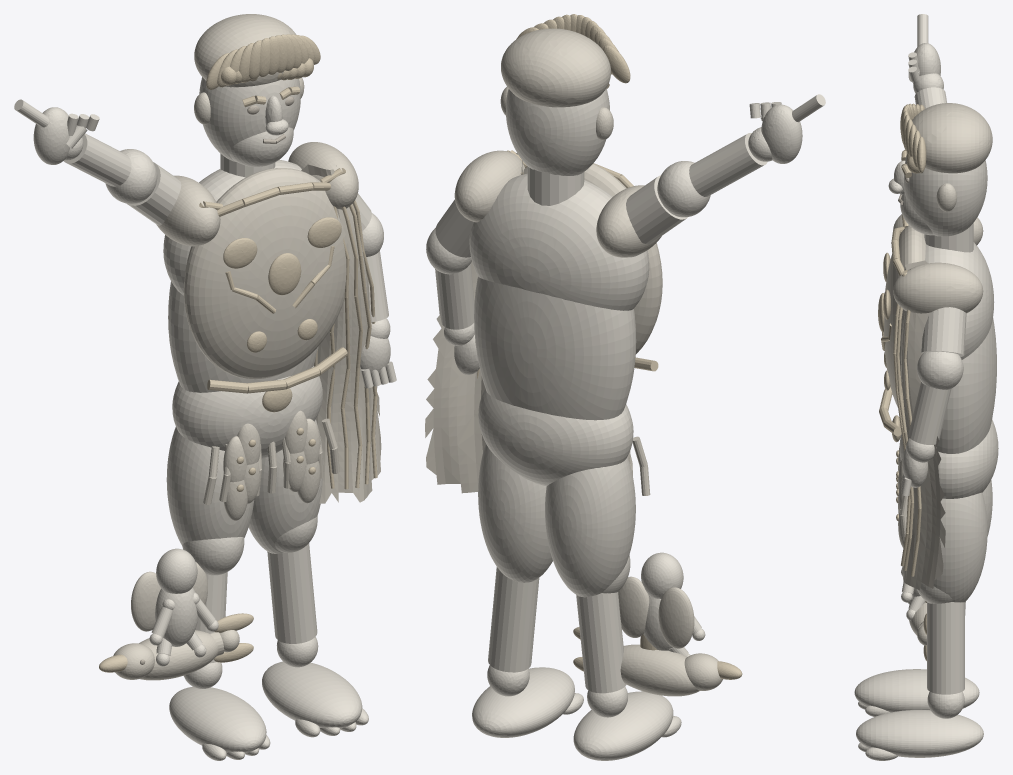
The model's file is augustus-prima-porta.glb.
3 renders of one model, left to right at view 1: azimuth 30°, elevation 25°; view 2: azimuth 150°, elevation 25°; view 3: azimuth 270°, elevation 25°, orthographic. The views are drawn at different scales.
Visible parts, largest first — view 1: supporting thigh, cuirass front, shoulder piping -1 0; view 2: supporting thigh, cuirass front, shoulder piping -1 0; view 3: supporting thigh, cuirass front, shoulder piping -1 0.
Part boxes in pixels (x1,y1,x2,y2): supporting thigh: [14, 77, 396, 760]; cuirass front: [113, 14, 381, 680]; shoulder piping -1 0: [99, 34, 377, 672]; supporting thigh: [426, 88, 825, 760]; cuirass front: [425, 28, 722, 696]; shoulder piping -1 0: [477, 14, 742, 679]; supporting thigh: [854, 14, 998, 760]; cuirass front: [883, 103, 992, 645]; shoulder piping -1 0: [878, 103, 926, 660].
Bounding box in the file's own units: 2.68 × 4.73 × 0.9897.
